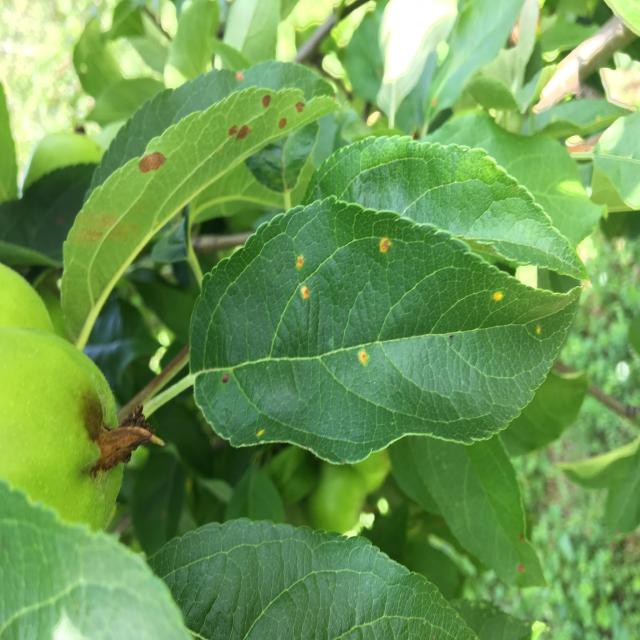Rust: (352, 345, 377, 375), (254, 416, 269, 458), (294, 280, 317, 306), (292, 238, 306, 280), (377, 232, 395, 263), (489, 284, 508, 311), (531, 320, 547, 346)
